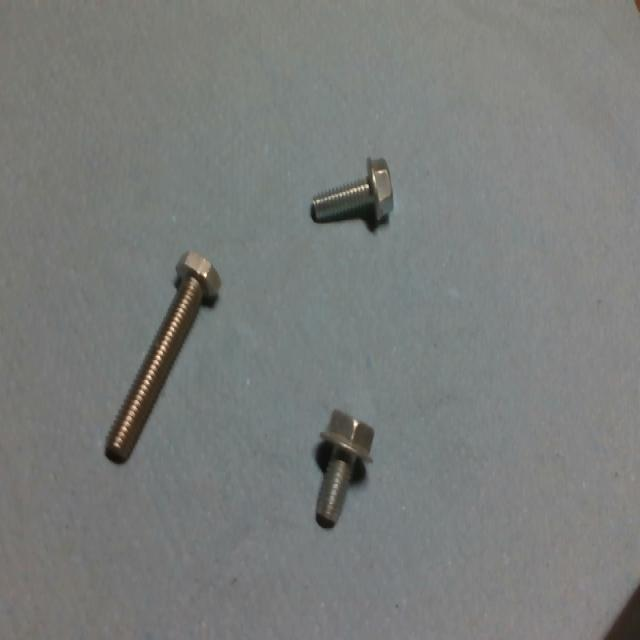Bolt: (105, 253, 219, 463), (314, 411, 374, 531), (309, 159, 393, 228)
